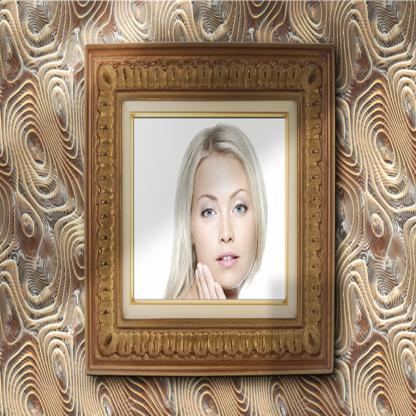picture frame: (59, 25, 360, 394)
